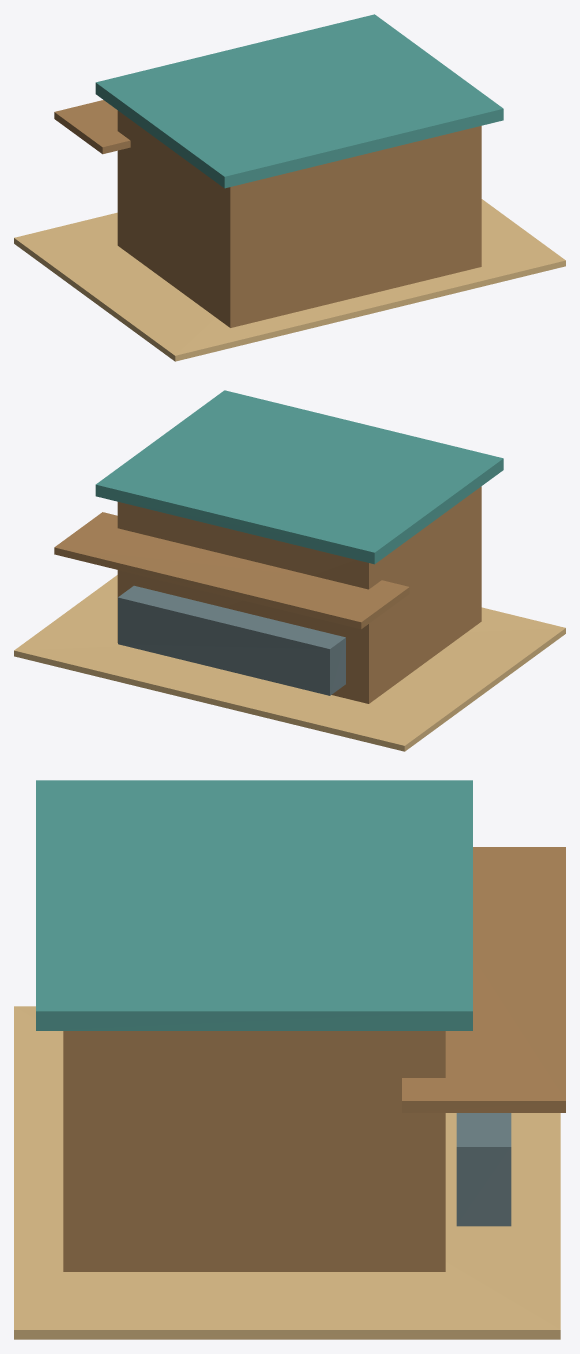
File: caravan-trading-post.source.glb
The picture shows the model from 3 angles, top to bottom: view 1: azimuth 30°, elevation 25°; view 2: azimuth 150°, elevation 25°; view 3: azimuth 270°, elevation 25°; orthographic projection. The views are drawn at different scales.
Parts seen in each view (by area): view 1: caravan-trading-post-hall-mesh, caravan-trading-post-roof-mesh, caravan-trading-post-pad-mesh, caravan-trading-post-awning-mesh; view 2: caravan-trading-post-roof-mesh, caravan-trading-post-pad-mesh, caravan-trading-post-hall-mesh, caravan-trading-post-counter-mesh, caravan-trading-post-awning-mesh; view 3: caravan-trading-post-roof-mesh, caravan-trading-post-hall-mesh, caravan-trading-post-pad-mesh, caravan-trading-post-awning-mesh, caravan-trading-post-counter-mesh.
Boxes of the visible parts, x1,y1,x2,y2 form: caravan-trading-post-hall-mesh: (117,110,481,327); caravan-trading-post-roof-mesh: (95,14,503,188); caravan-trading-post-pad-mesh: (14,199,565,361); caravan-trading-post-awning-mesh: (54,100,130,154); caravan-trading-post-roof-mesh: (95,390,503,564); caravan-trading-post-pad-mesh: (14,575,565,751); caravan-trading-post-hall-mesh: (117,486,481,703); caravan-trading-post-counter-mesh: (118,585,345,695); caravan-trading-post-awning-mesh: (54,512,409,629); caravan-trading-post-roof-mesh: (36,780,472,1030); caravan-trading-post-hall-mesh: (63,1031,445,1271); caravan-trading-post-pad-mesh: (14,1006,560,1339); caravan-trading-post-awning-mesh: (402,847,565,1112); caravan-trading-post-counter-mesh: (456,1113,511,1226).
Bounding box in the file's own units: 7 × 2.85 × 5.05.
